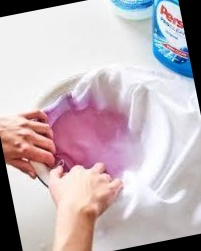wine: (46, 101, 138, 189)
